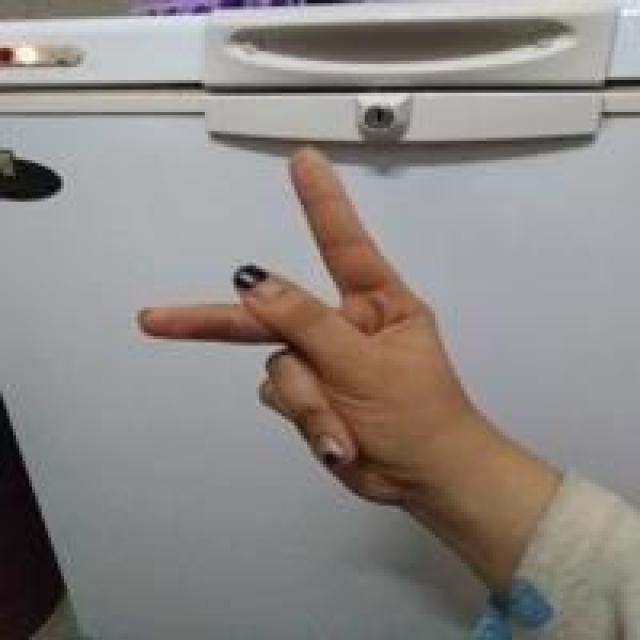K: (110, 136, 476, 523)
